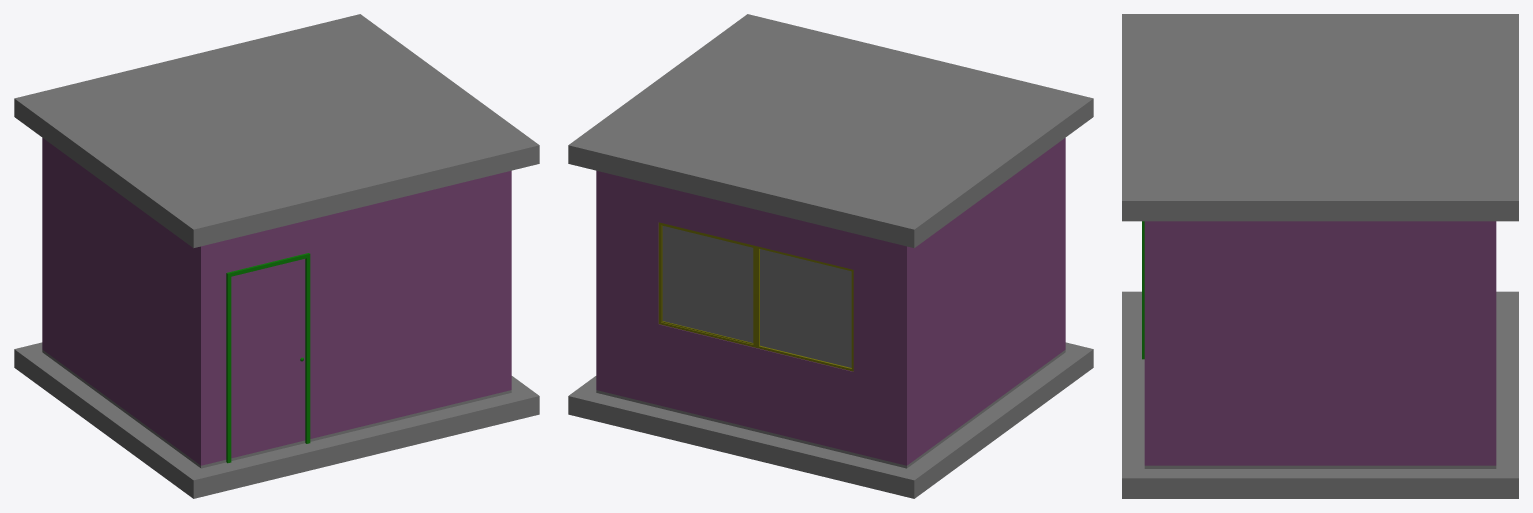
The model's file is FloorPlan328.fbx.
The picture shows the model from 3 angles, left to right: view 1: azimuth 30°, elevation 25°; view 2: azimuth 150°, elevation 25°; view 3: azimuth 270°, elevation 25°; orthographic projection. The views are drawn at different scales.
Visible parts, largest first — view 1: StandardWallSize, Ceiling, Floor, StandardDoorFrame1; view 2: StandardWallSize, Ceiling, Window, Floor; view 3: StandardWallSize, Ceiling, Floor.
Part boxes in pixels (<box>): StandardWallSize: <box>42,138,511,468</box>; Ceiling: <box>14,14,539,248</box>; Floor: <box>14,342,539,498</box>; StandardDoorFrame1: <box>226,253,310,463</box>; StandardWallSize: <box>596,138,1065,468</box>; Ceiling: <box>568,14,1093,248</box>; Window: <box>658,222,853,371</box>; Floor: <box>568,342,1093,498</box>; StandardWallSize: <box>1144,221,1496,468</box>; Ceiling: <box>1122,14,1518,221</box>; Floor: <box>1122,291,1518,498</box>.
Size of the model in its own units: 390 by 290 by 350.
